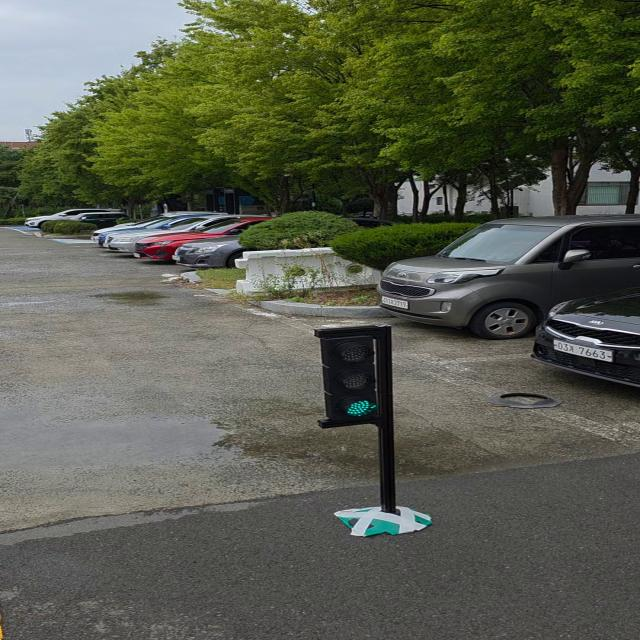green: (322, 333, 389, 427)
